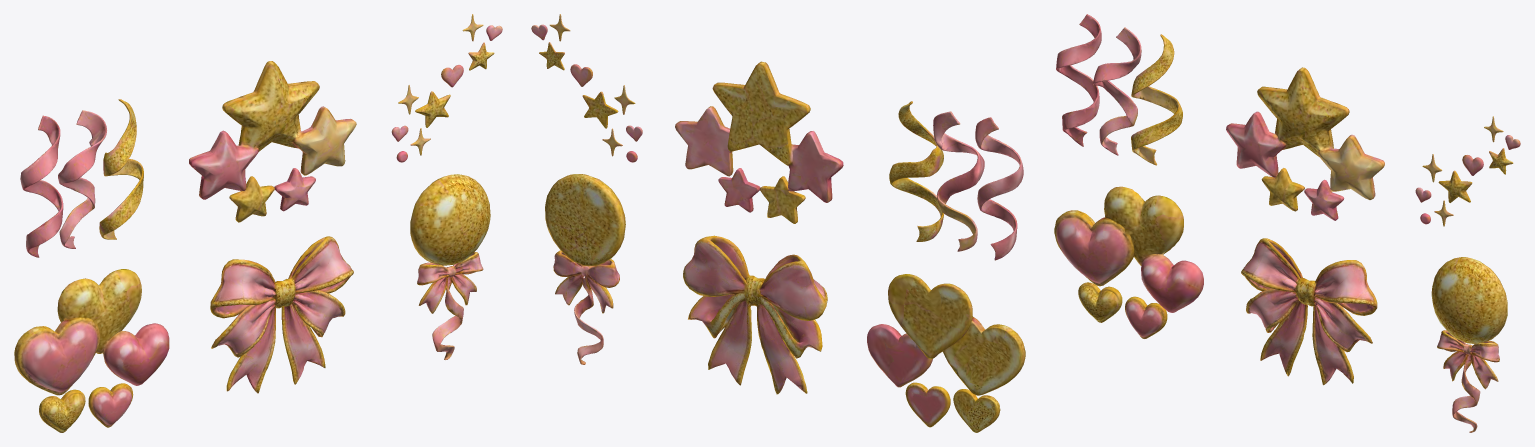
3 views of the same model, side by side, from view 1: azimuth 30°, elevation 25°; view 2: azimuth 150°, elevation 25°; view 3: azimuth 330°, elevation 25° (orthographic). The views are drawn at different scales.
Visible parts, largest first — view 1: model_part7, model_part0, model_part6, model_part12, model_part13, model_part3, model_part1, model_part5, model_part4, model_part2, model_part8, model_part15; view 2: model_part7, model_part0, model_part6, model_part12, model_part13, model_part1, model_part5, model_part3, model_part4, model_part2, model_part8, model_part15; view 3: model_part7, model_part0, model_part6, model_part12, model_part5, model_part13, model_part1, model_part3, model_part2, model_part4, model_part8, model_part15.
Part boxes in pixels (<box>): model_part7: <box>210,236,353,393</box>; model_part0: <box>14,269,169,395</box>; model_part6: <box>189,61,356,222</box>; model_part12: <box>410,174,490,265</box>; model_part13: <box>417,252,483,359</box>; model_part3: <box>58,110,106,248</box>; model_part1: <box>20,115,63,257</box>; model_part5: <box>99,99,143,239</box>; model_part4: <box>88,383,133,427</box>; model_part2: <box>39,389,85,432</box>; model_part8: <box>274,168,315,211</box>; model_part15: <box>415,91,450,127</box>; model_part7: <box>683,235,827,394</box>; model_part0: <box>867,274,1025,395</box>; model_part6: <box>675,61,843,223</box>; model_part12: <box>545,174,625,266</box>; model_part13: <box>553,250,619,364</box>; model_part1: <box>975,117,1023,260</box>; model_part5: <box>889,101,943,241</box>; model_part3: <box>933,111,984,251</box>; model_part4: <box>905,382,950,427</box>; model_part2: <box>953,389,1000,432</box>; model_part8: <box>718,168,760,212</box>; model_part15: <box>582,91,618,128</box>; model_part7: <box>1241,238,1377,385</box>; model_part0: <box>1054,186,1203,312</box>; model_part6: <box>1226,67,1384,211</box>; model_part12: <box>1431,257,1507,344</box>; model_part5: <box>1131,34,1182,165</box>; model_part13: <box>1437,330,1499,432</box>; model_part1: <box>1056,14,1101,146</box>; model_part3: <box>1093,27,1141,155</box>; model_part2: <box>1078,282,1122,322</box>; model_part4: <box>1125,296,1167,338</box>; model_part8: <box>1304,179,1344,220</box>; model_part15: <box>1438,170,1472,202</box>.
Size of the model in its own units: 1.85 by 1.24 by 0.1167.
1 material, 1 textured.
